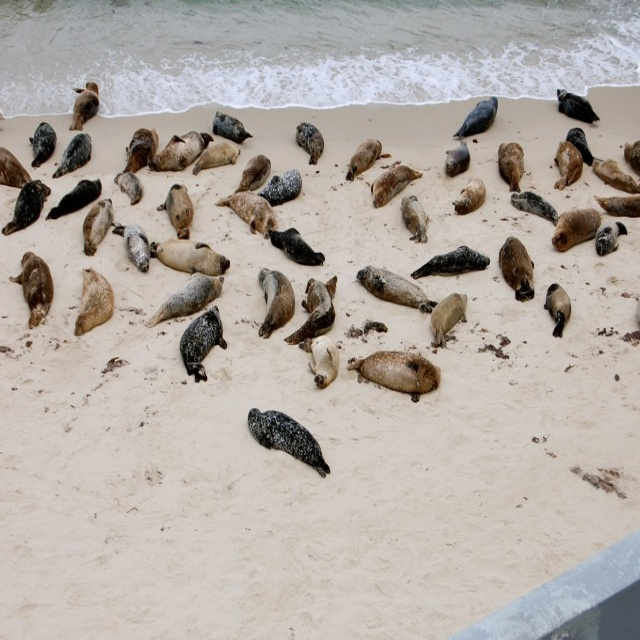Sea lion: (0, 80, 640, 402), (248, 407, 332, 480)
